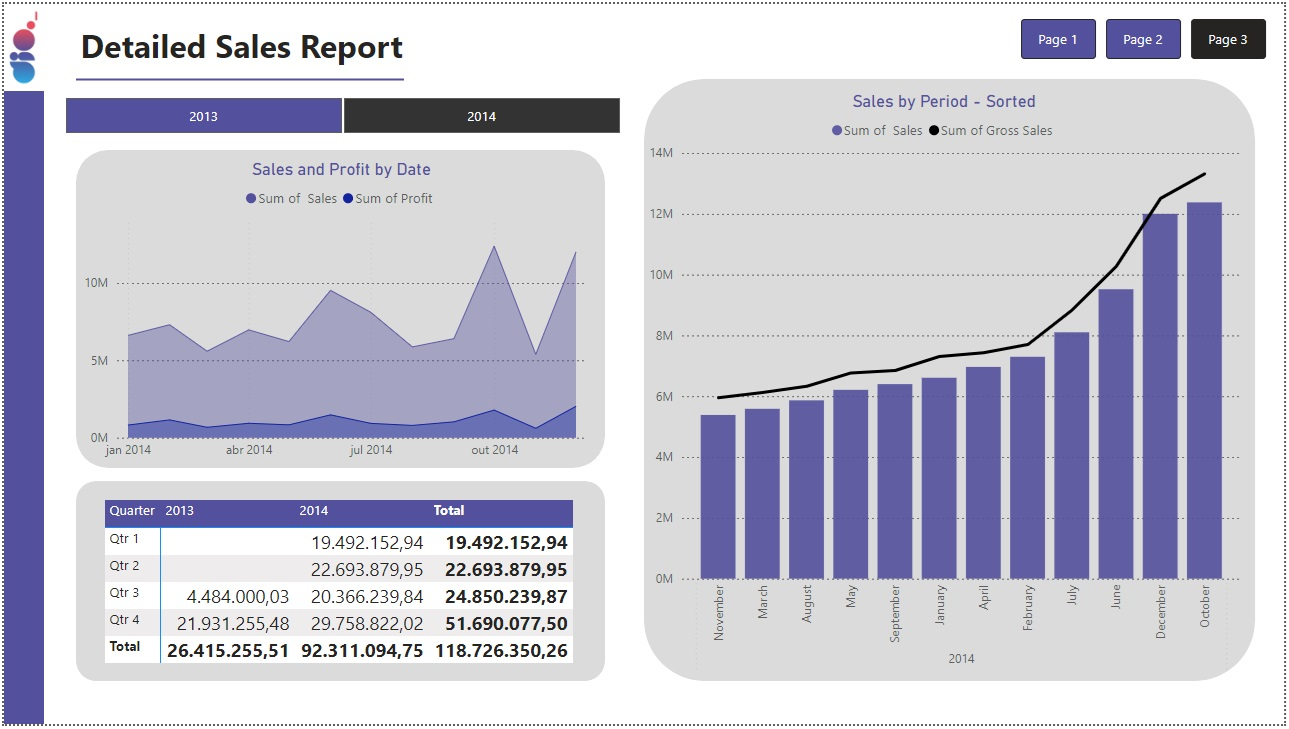

The page's visual inventory and layout, read from the dashboard file:
{"tool":"powerbi","page":{"name":"Page 3","canvas":[1280,720],"ordinal":2},"visuals":[{"type":"shape","box":[640,75.5,610.9,601.8],"z":0},{"type":"shape","box":[71.8,477.3,529.1,200],"z":1000},{"type":"shape","box":[71.8,146.4,529.1,317.3],"z":2000},{"type":"shape","box":[71.6,64.5,328.7,22.4],"z":3000},{"type":"textbox","box":[71.6,14.3,365.4,56.4],"z":4000},{"type":"shape","box":[0,0,40.3,720],"z":5000},{"type":"shape","box":[0,0,40,87.3],"z":6000},{"type":"image","box":[0,0,40.3,86.9],"z":7000},{"type":"pivotTable","fields":{"Values":["Sum(financials. Sales)"],"Columns":["financials.Date.Variation.Date Hierarchy.Year"],"Rows":["financials.Date.Variation.Date Hierarchy.Quarter"]},"box":[96.4,490.9,479.1,186.4],"z":8000},{"type":"areaChart","title":"Sales and Profit by Date","fields":{"Category":["financials.Date.Variation.Date Hierarchy.Year"],"Y":["Sum(financials. Sales)","Sum(financials.Profit)"]},"box":[75.5,154.5,525.5,309.1],"z":9000},{"type":"lineClusteredColumnComboChart","title":"Sales by Period - Sorted","fields":{"Category":["financials.Date.Variation.Date Hierarchy.Year","financials.Date.Variation.Date Hierarchy.Month"],"Y":["Sum(financials. Sales)"],"Y2":["Sum(financials.Gross Sales)"]},"box":[640.3,86.9,600.9,590.1],"z":10000},{"type":"slicer","fields":{"Values":["financials.Date.Variation.Date Hierarchy.Year"]},"box":[35.8,86.9,604.5,49.3],"z":11000},{"type":"pageNavigator","box":[1017.3,14.5,246.4,40.9],"z":12000}]}

Visuals, with their boxes in screenshot pixels (x1, y1, x2, y2), scaled from the page's 1280x720 canvas onto the 1289x729 screenshot:
shape: 644/76/1260/686
shape: 72/483/605/686
shape: 72/148/605/469
shape: 72/65/403/88
textbox: 72/14/440/72
shape: 0/0/41/728
shape: 0/0/40/88
image: 0/0/41/88
pivotTable - Sum(financials. Sales) x financials.Date.Variation.Date Hierarchy.Year: 97/497/580/686
"Sales and Profit by Date" areaChart: 76/156/605/469
"Sales by Period - Sorted" lineClusteredColumnComboChart: 645/88/1250/685
slicer - financials.Date.Variation.Date Hierarchy.Year: 36/88/645/138
pageNavigator: 1024/15/1273/56
